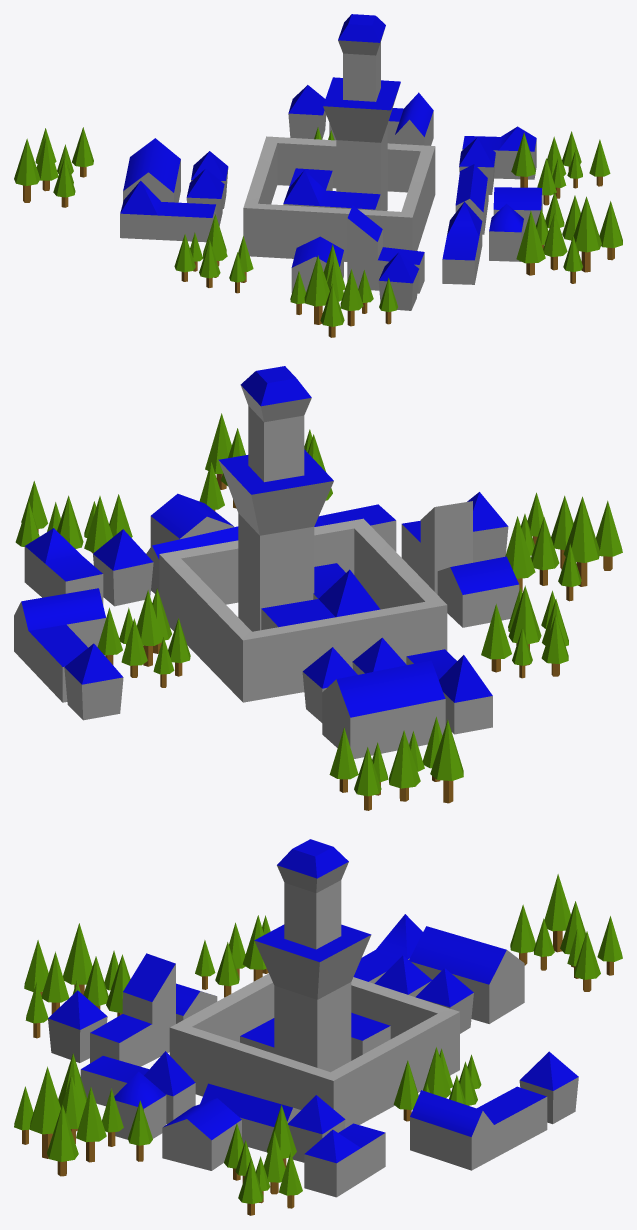
The model's file is hongtown.fbx.
3 renders of one model, top to bottom at view 1: azimuth 30°, elevation 25°; view 2: azimuth 150°, elevation 25°; view 3: azimuth 270°, elevation 25°, orthographic. The views are drawn at different scales.
Parts seen in each view (by area): view 1: polySurface310; view 2: polySurface310; view 3: polySurface310.
Part boxes in pixels (x1,y1,x2,y2): polySurface310: [14, 14, 622, 337]; polySurface310: [14, 366, 622, 810]; polySurface310: [14, 839, 622, 1215].
Bounding box in the file's own units: 35.3 × 14.47 × 32.87.
